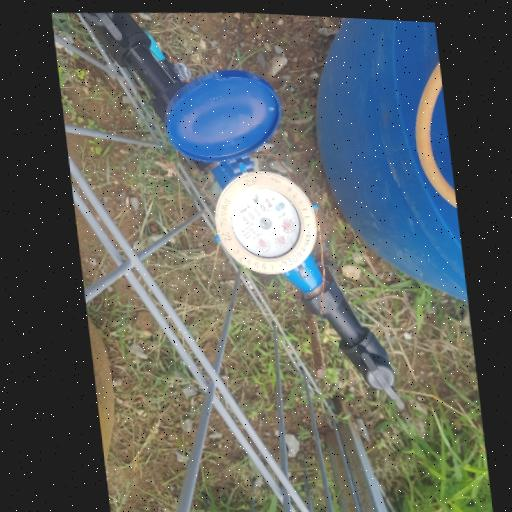0: (257, 201, 269, 213), (245, 211, 256, 222), (240, 215, 251, 225)
1: (252, 206, 263, 216)
3: (262, 197, 274, 210)
border_water_meter_number: (236, 194, 278, 229)
